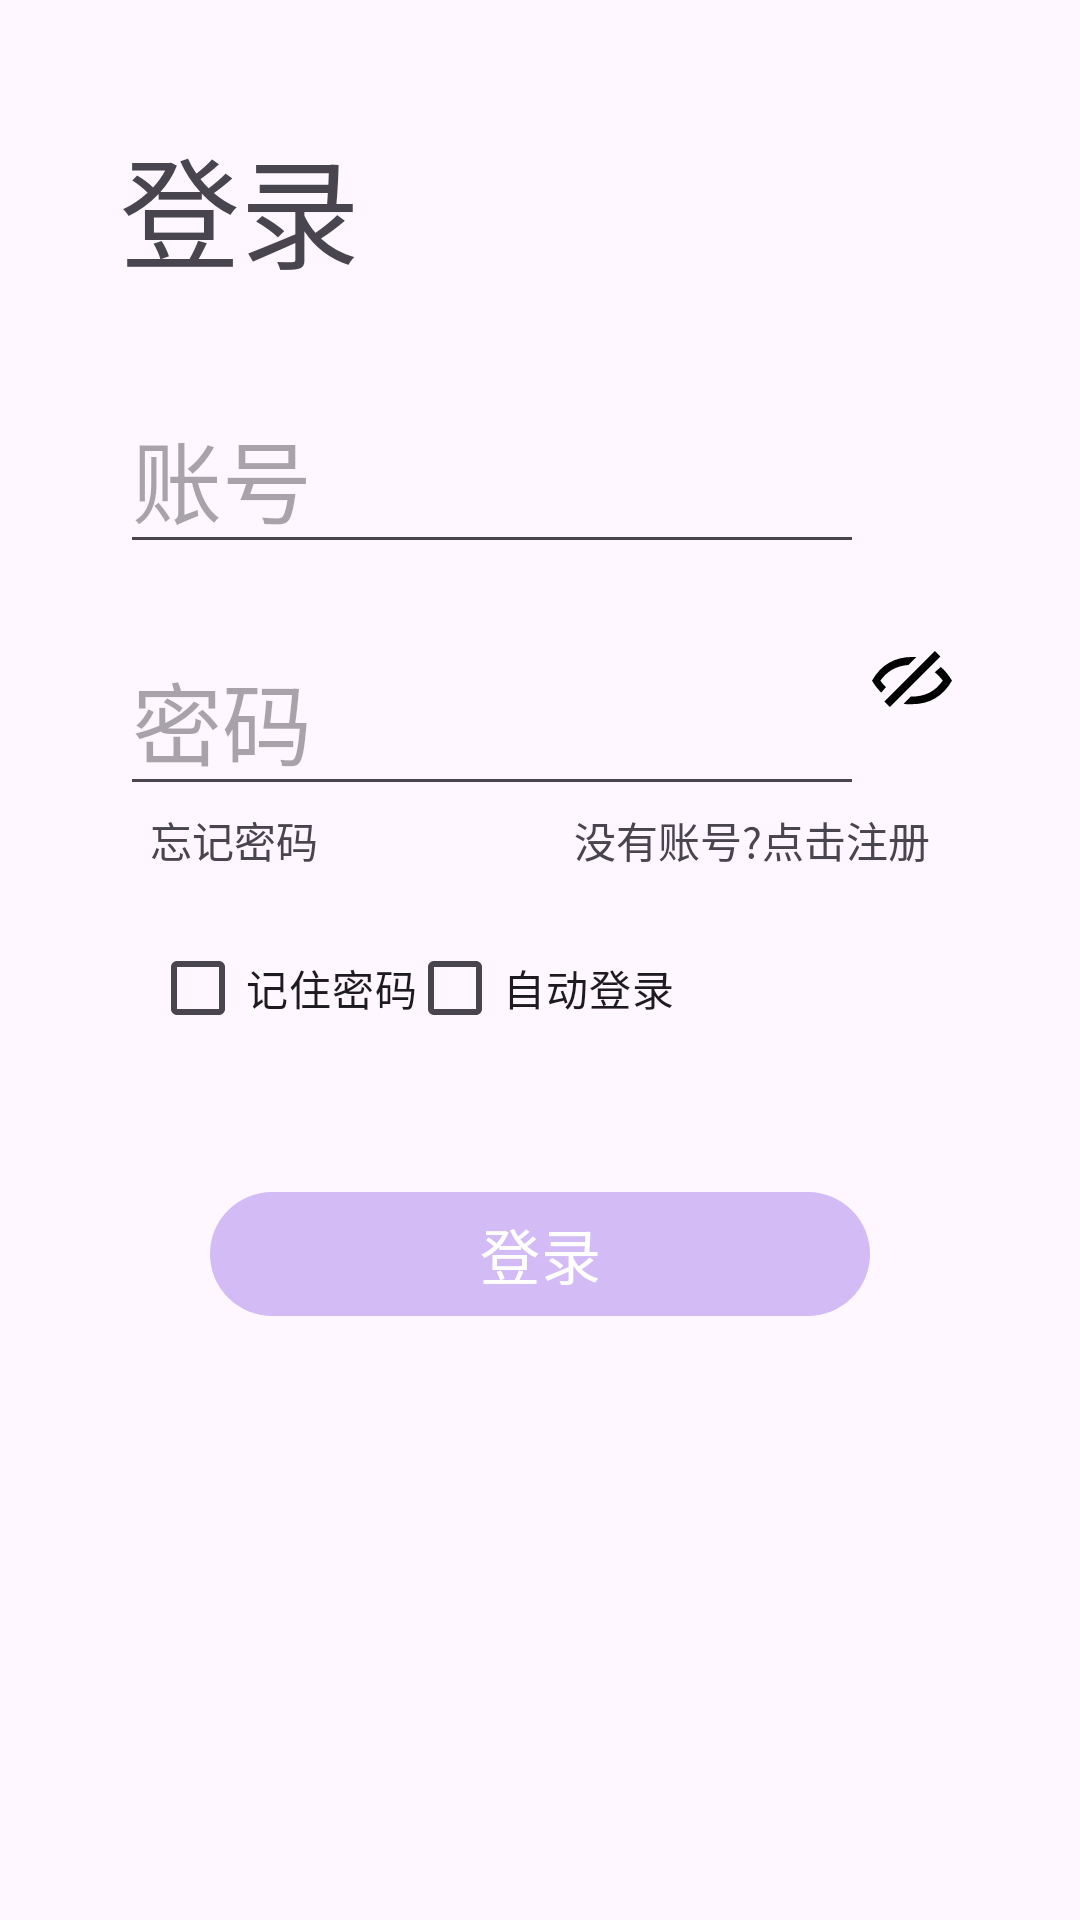

Screen size 1080 x 1920. Icon name, then its box in pixels as (x1, y1, x2, y2):
password show: (872, 651, 952, 707)
